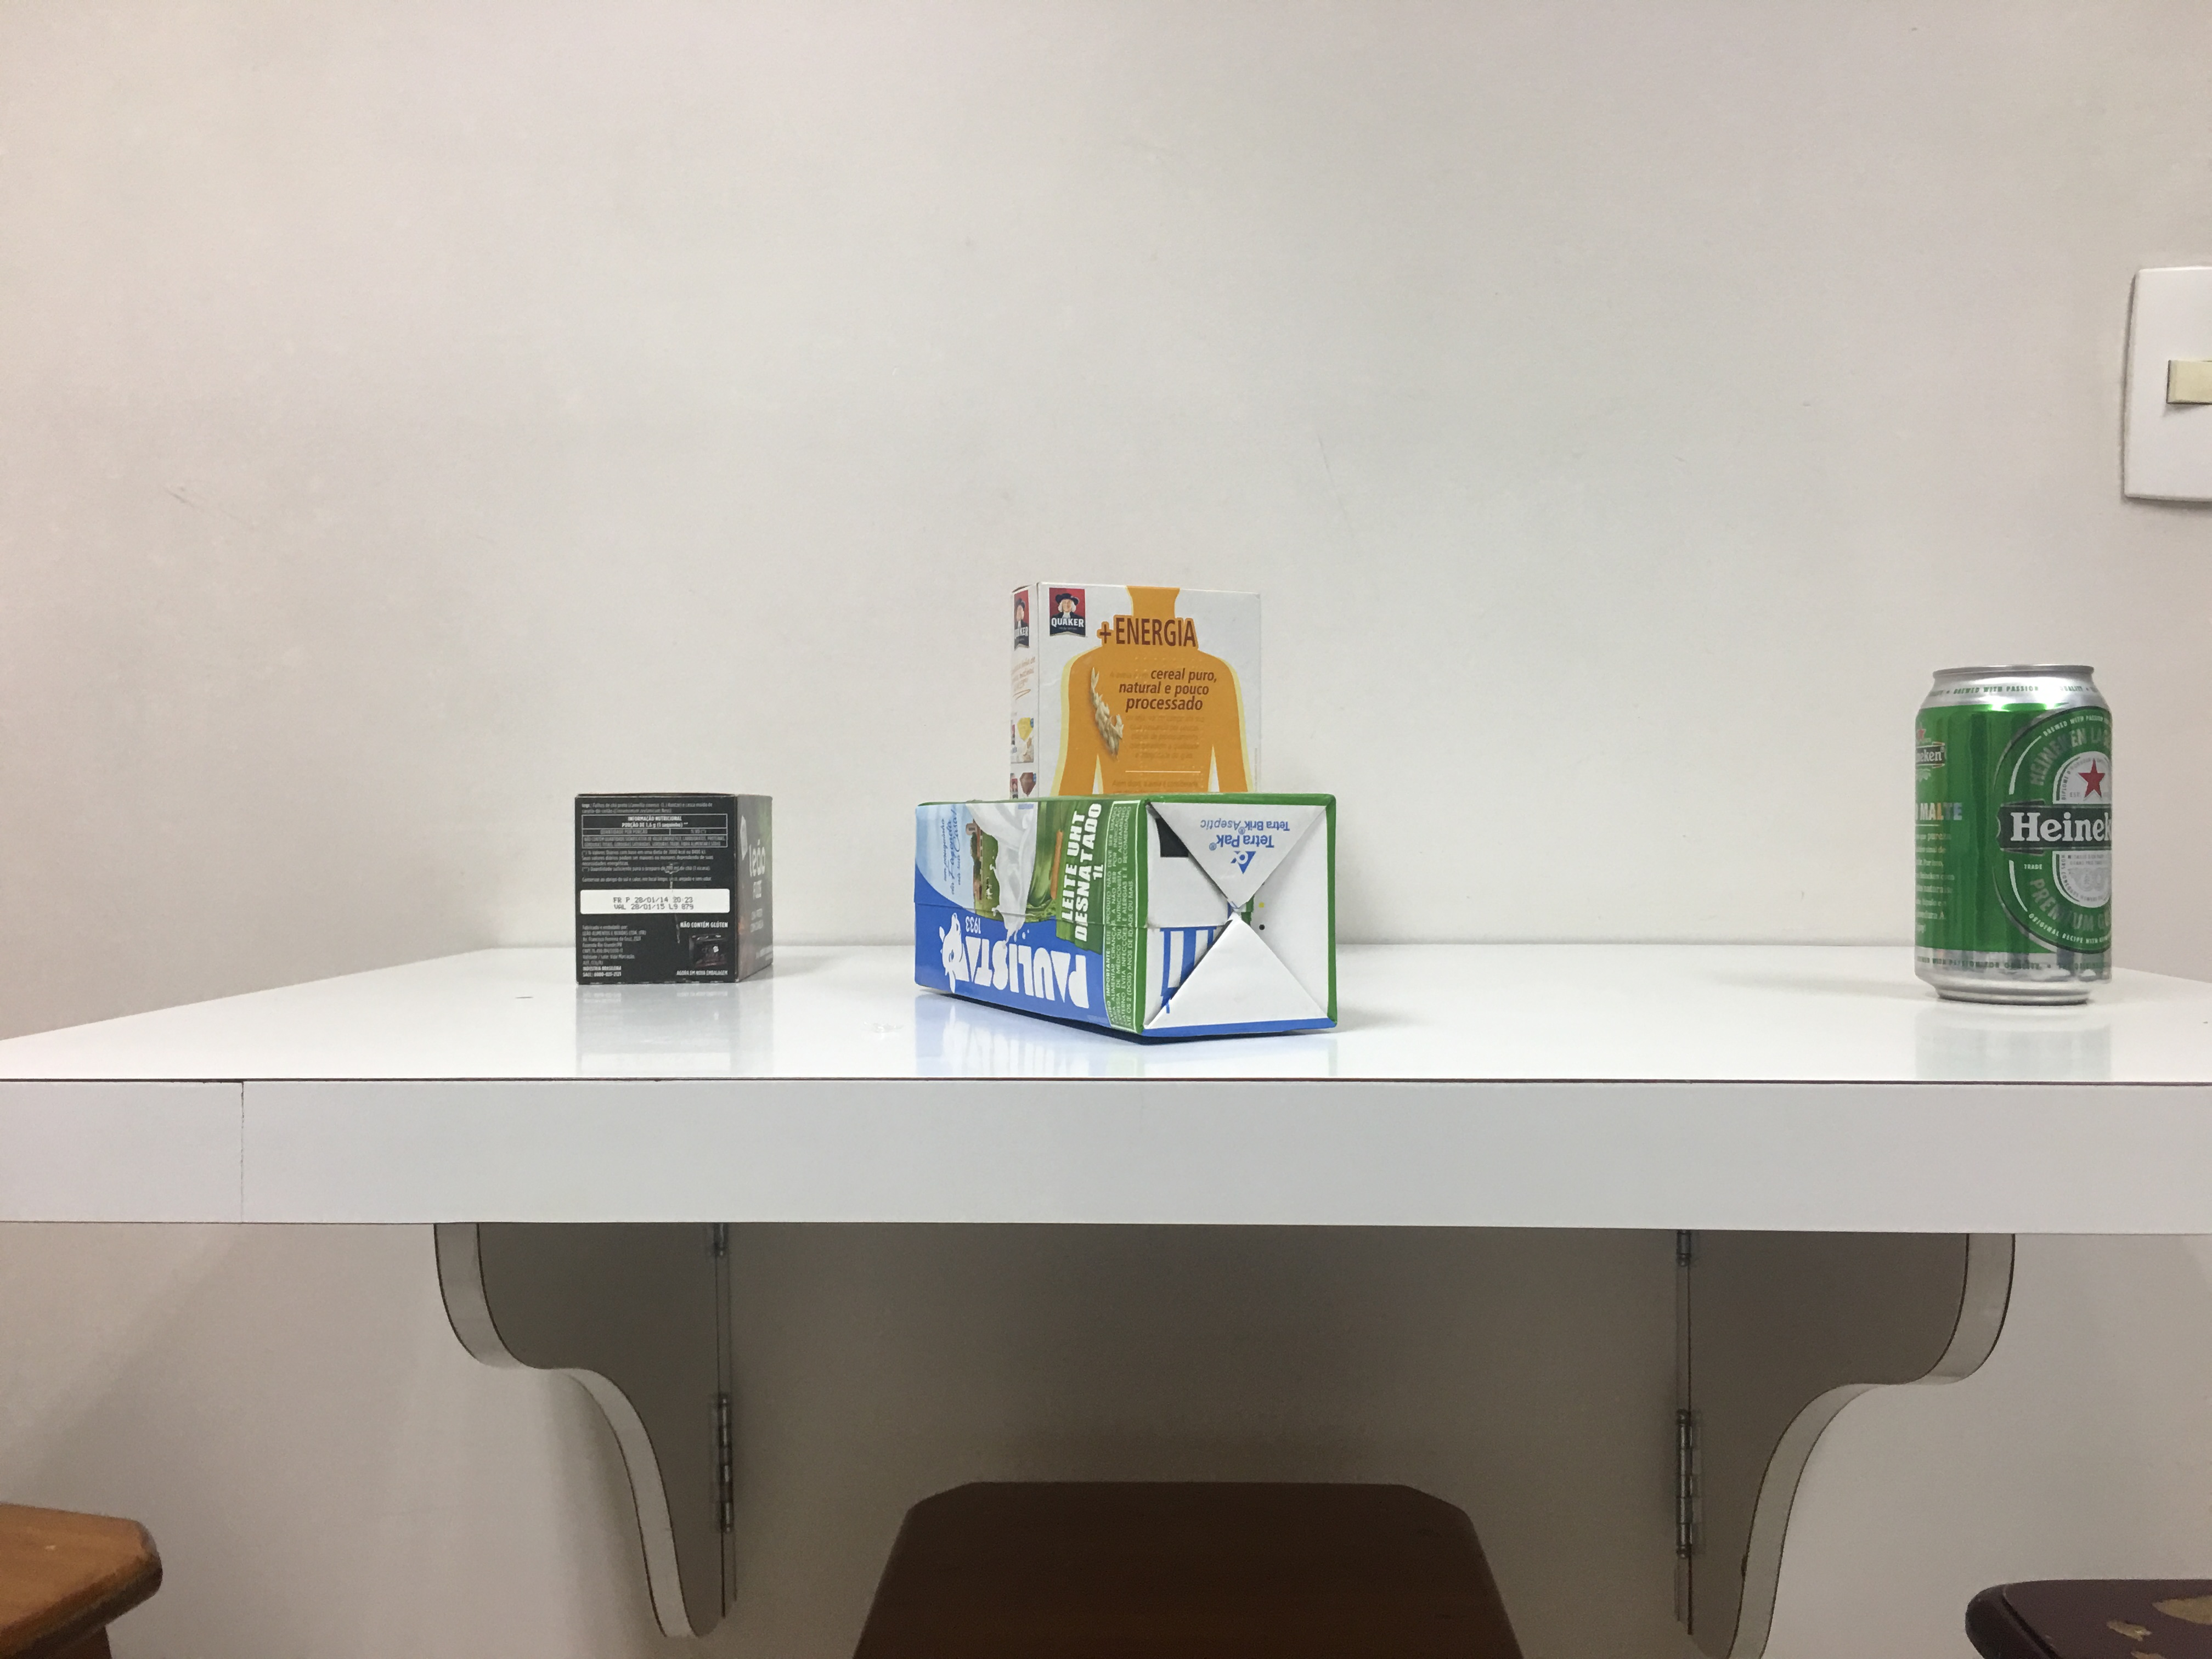cereal: (1003, 572, 1263, 795)
heineken: (1902, 652, 2127, 1019)
milk_box: (897, 788, 1346, 1039)
tea_box: (559, 784, 784, 997)
